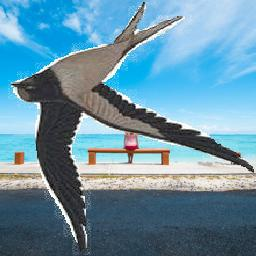Swallow: (9, 3, 256, 256)
